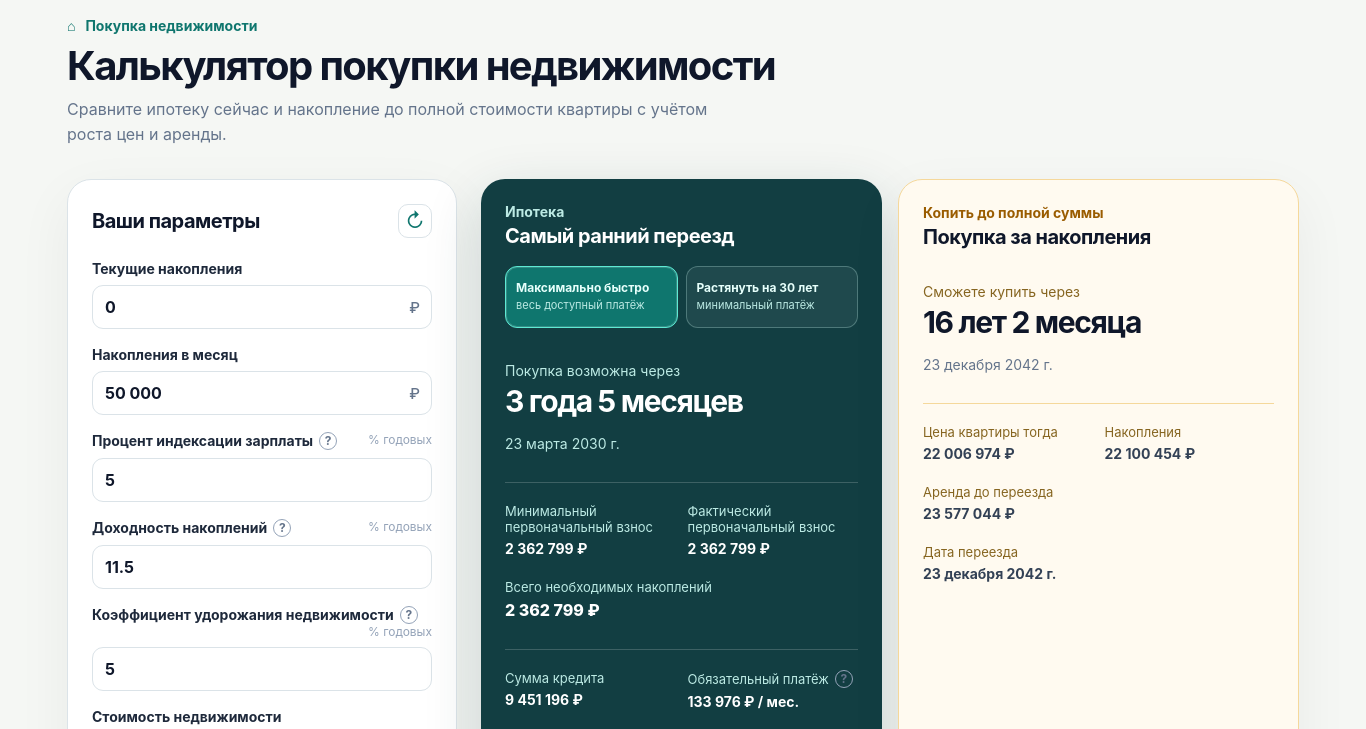
Test: App: public UI through mounted component › resets all parameters with the reset button
Replace the text in the field labelled "Текущие накопления ₽" with "6000000" at (262, 307), box x1=92 y1=285 x2=432 y2=329
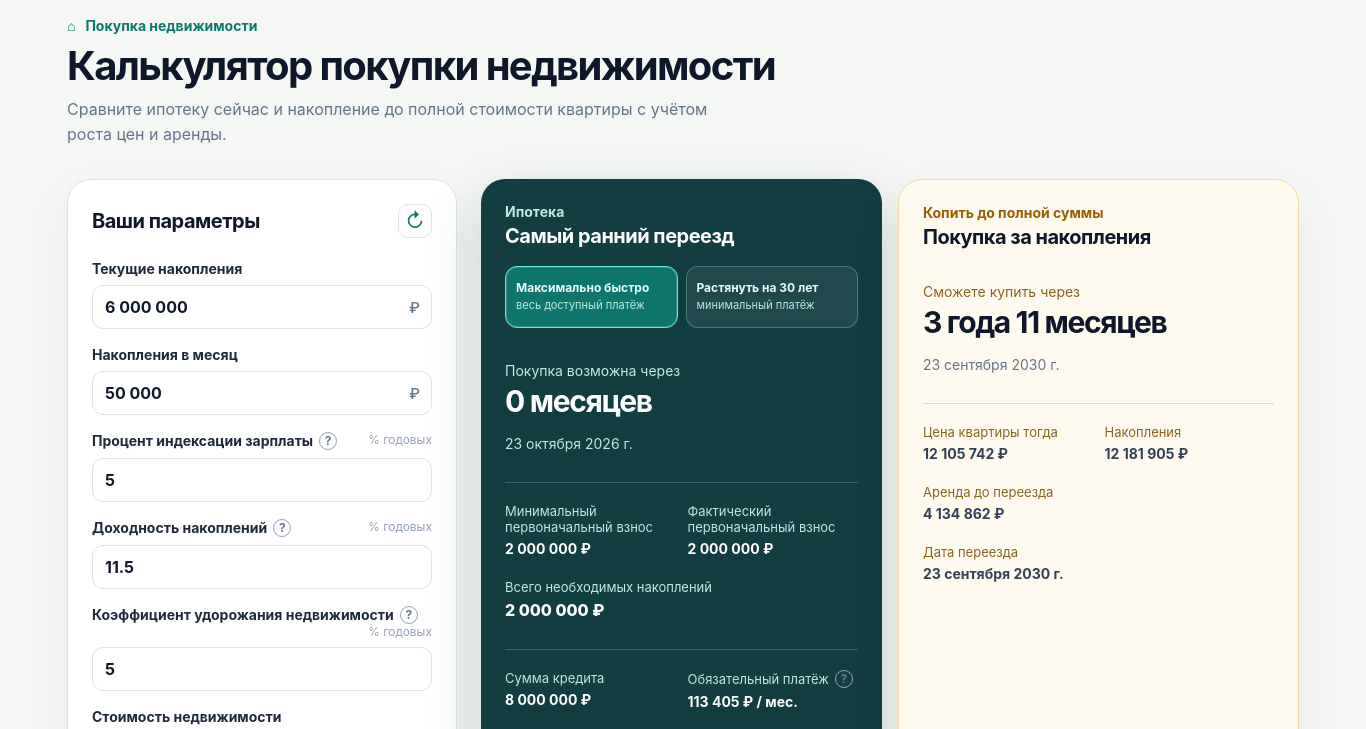
Click the button "Растянуть на 30 лет минимальный платёж".
click(772, 297)  # box x1=686 y1=266 x2=858 y2=328
(page scrolled)
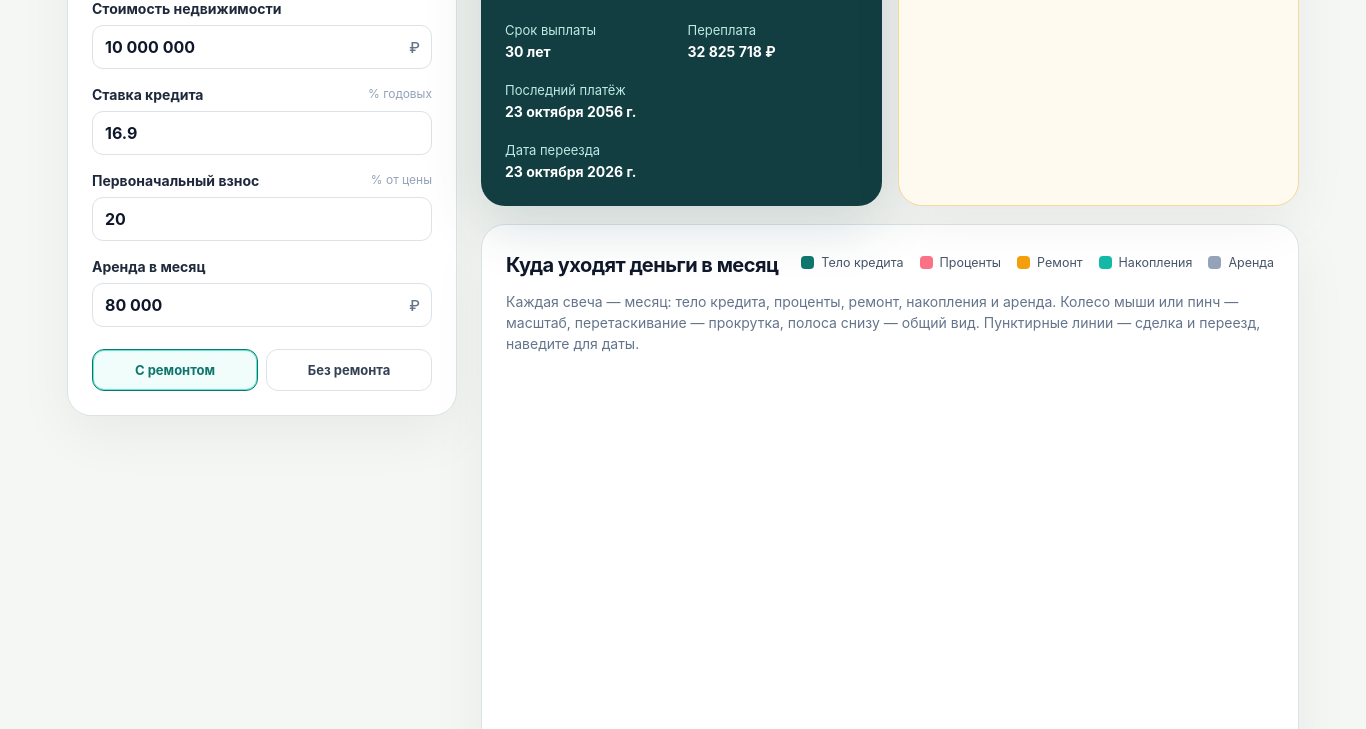
Click the button "Без ремонта".
click(349, 370)  # box x1=266 y1=349 x2=432 y2=391
(page scrolled)
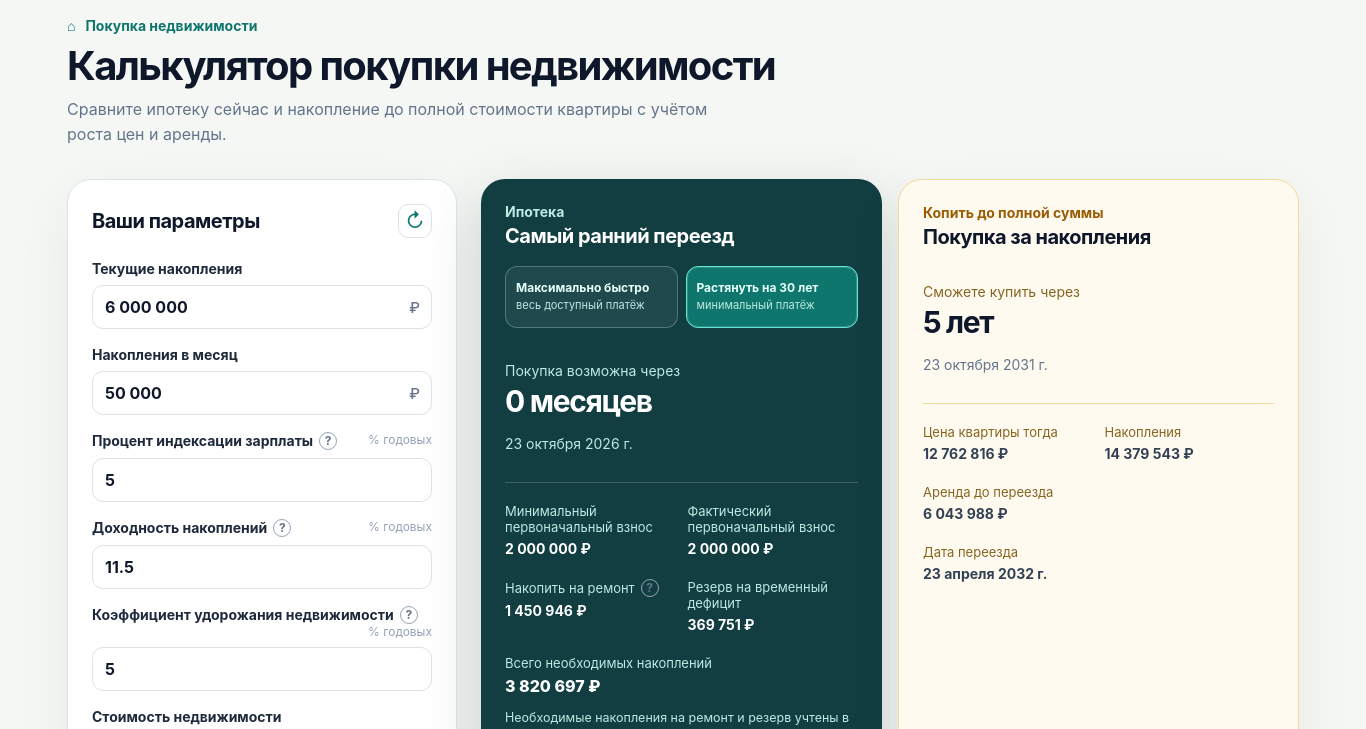
Click the button named "Сбросить пример".
click(415, 221)  # box x1=398 y1=204 x2=432 y2=238
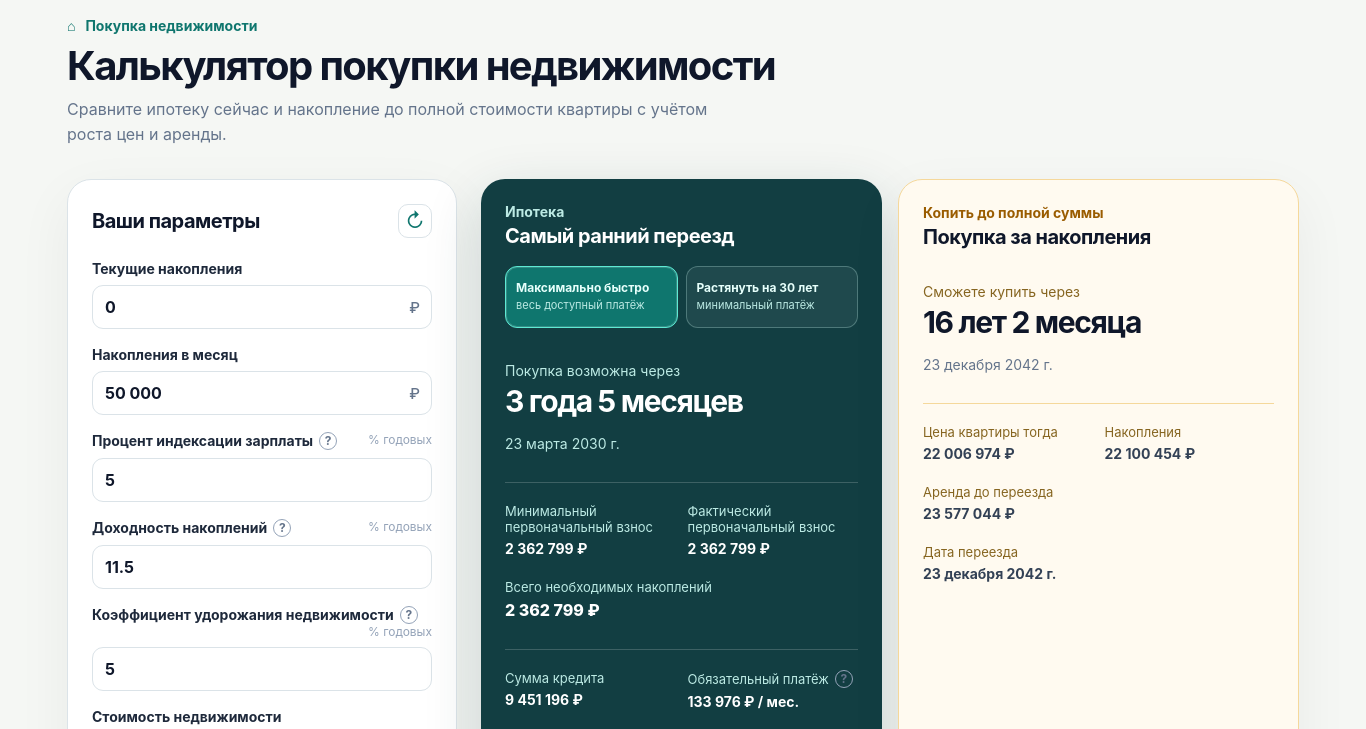
Expected: the text with class "big" reads "3 года 5 месяцев", x1=505 y1=383 x2=743 y2=419
